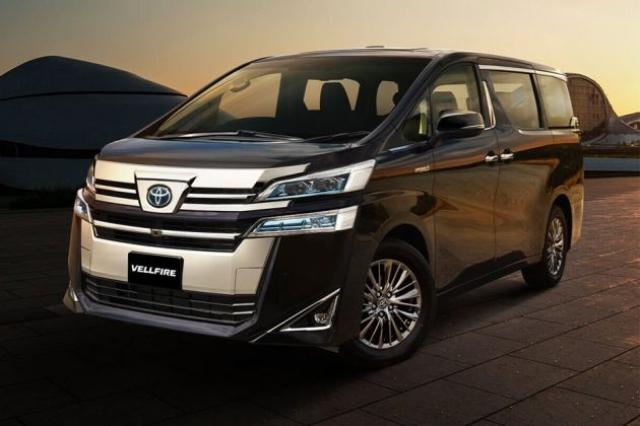toyota: (61, 45, 585, 367)
